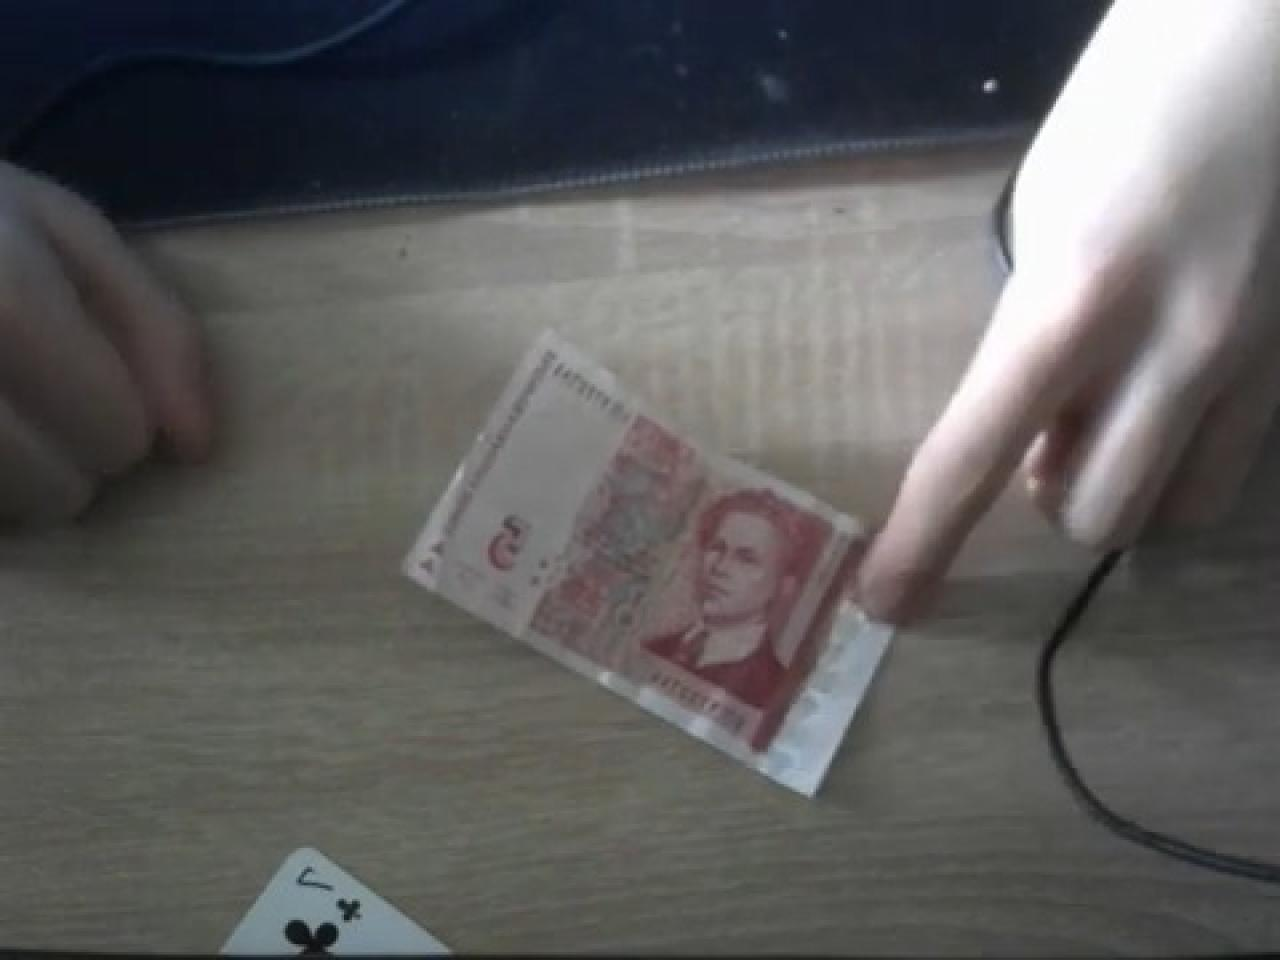5leva: (403, 334, 896, 800)
